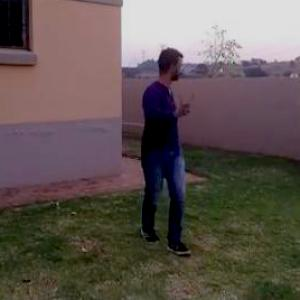takeoff-hand: (169, 86, 196, 124)
